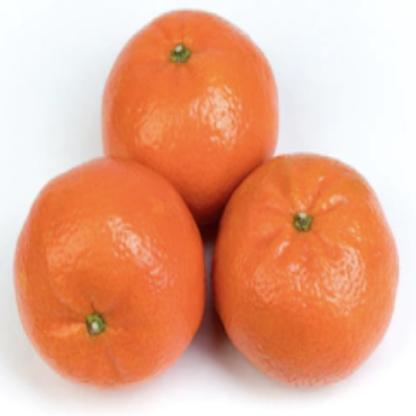fresh: (14, 11, 397, 389)
